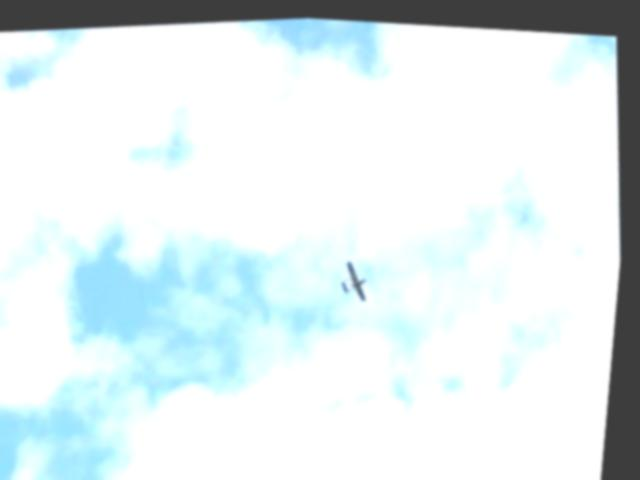uav: (344, 252, 375, 299)
